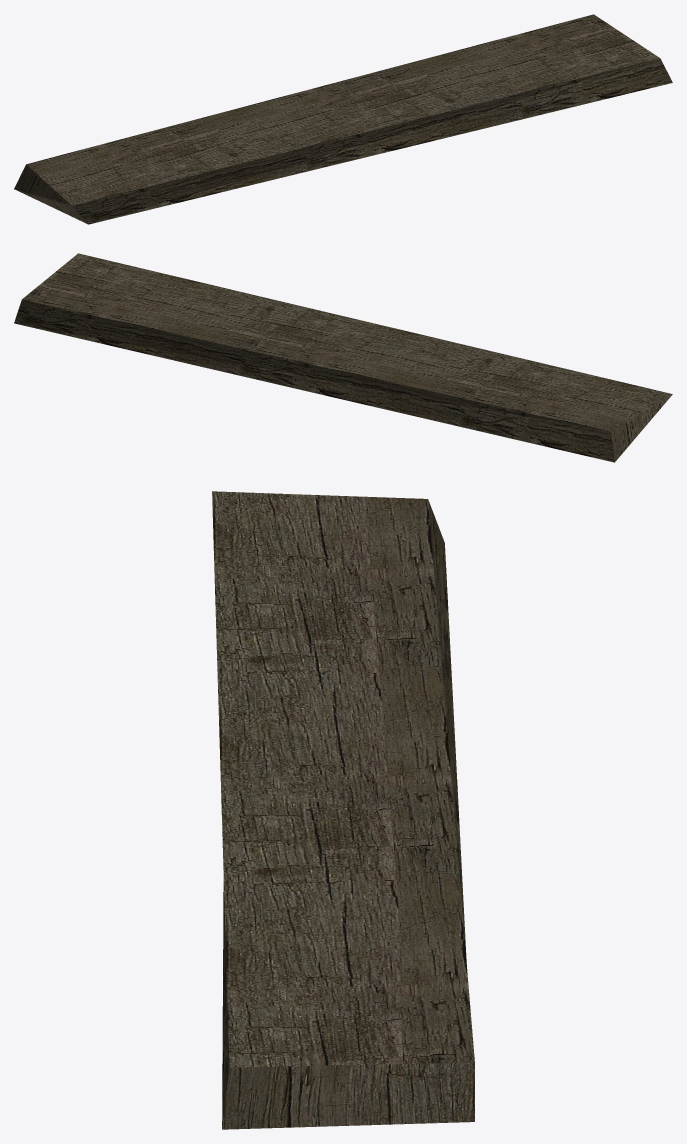
The model's file is DESKA1M.glb.
The picture shows the model from 3 angles, top to bottom: view 1: azimuth 30°, elevation 25°; view 2: azimuth 150°, elevation 25°; view 3: azimuth 270°, elevation 25°; orthographic projection. The views are drawn at different scales.
Visible parts, largest first — view 1: DESKA1M; view 2: DESKA1M; view 3: DESKA1M.
Boxes of the visible parts, x1=… form: DESKA1M: x1=14, y1=14, x2=672, y2=224; DESKA1M: x1=14, y1=253, x2=672, y2=462; DESKA1M: x1=212, y1=491, x2=474, y2=1129.
Size of the model in its own units: 1.83 by 0.0751 by 0.346.
1 material, 1 textured.
